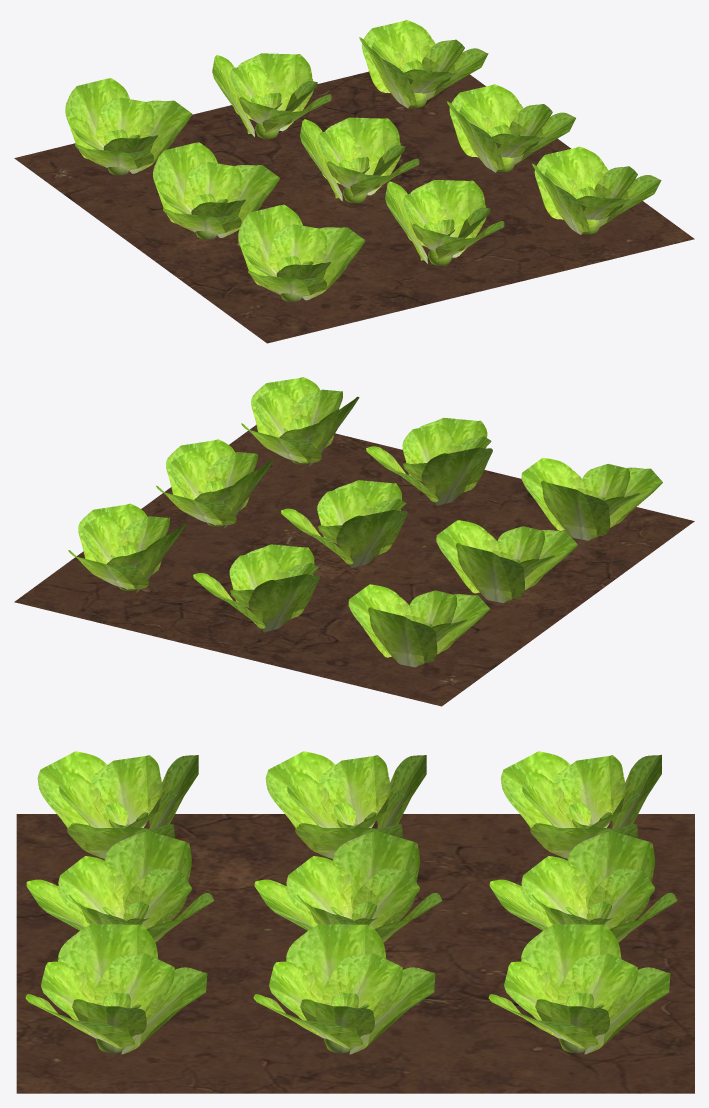
File: ARC0710052.fbx
The picture shows the model from 3 angles, top to bottom: view 1: azimuth 30°, elevation 25°; view 2: azimuth 150°, elevation 25°; view 3: azimuth 270°, elevation 25°; orthographic projection. The views are drawn at different scales.
Visible parts, largest first — view 1: smARC0710052; view 2: smARC0710052; view 3: smARC0710052.
Boxes of the visible parts, x1=… form: smARC0710052: x1=14, y1=20, x2=694, y2=343; smARC0710052: x1=14, y1=377, x2=694, y2=706; smARC0710052: x1=16, y1=751, x2=694, y2=1093.
Size of the model in its own units: 88.84 by 15.3 by 91.46.
1 material, 1 textured.
